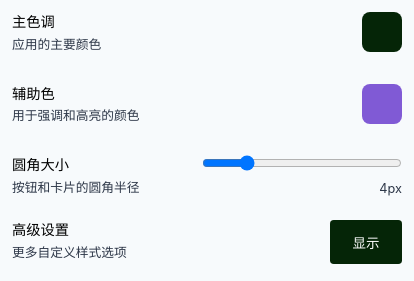
ThemeSettings组件 - 集成测试 › 更改圆角大小应更新CSS变量和localStorage
The image size is (414, 281).
Set the slider labelled "圆角大小" to "12" at {"x": 320, "y": 163}, box [202,155,402,171]
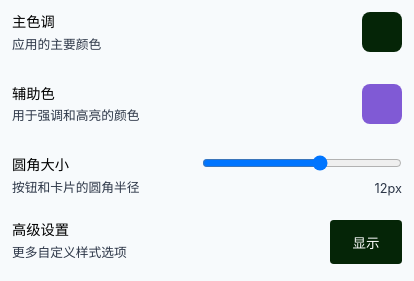
Expected: the text "12px" is shown, [374,181,402,196]
